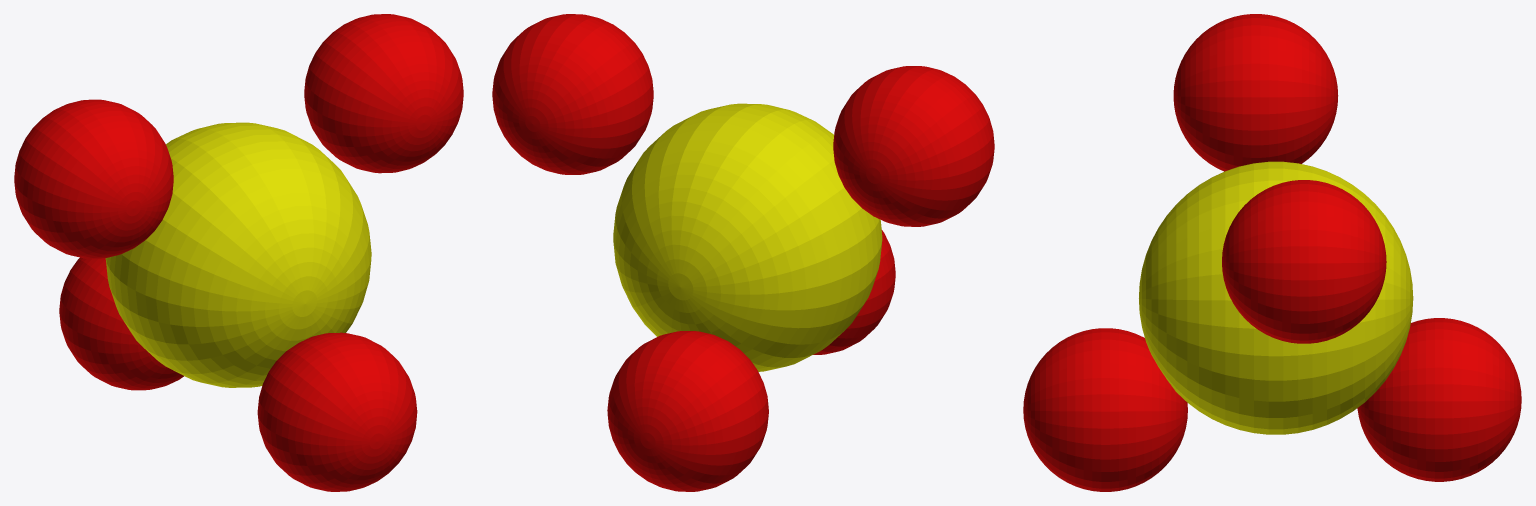
The model's file is Magnesium Sulfate.glb.
3 renders of one model, left to right at view 1: azimuth 30°, elevation 25°; view 2: azimuth 150°, elevation 25°; view 3: azimuth 270°, elevation 25°, orthographic. The views are drawn at different scales.
Parts seen in each view (by area): view 1: world; view 2: world; view 3: world.
Boxes of the visible parts, bbox=[...] form: world: bbox=[14, 14, 463, 491]; world: bbox=[492, 14, 994, 491]; world: bbox=[1023, 14, 1521, 491].
Size of the model in its own units: 3.92 by 3.09 by 3.63.
